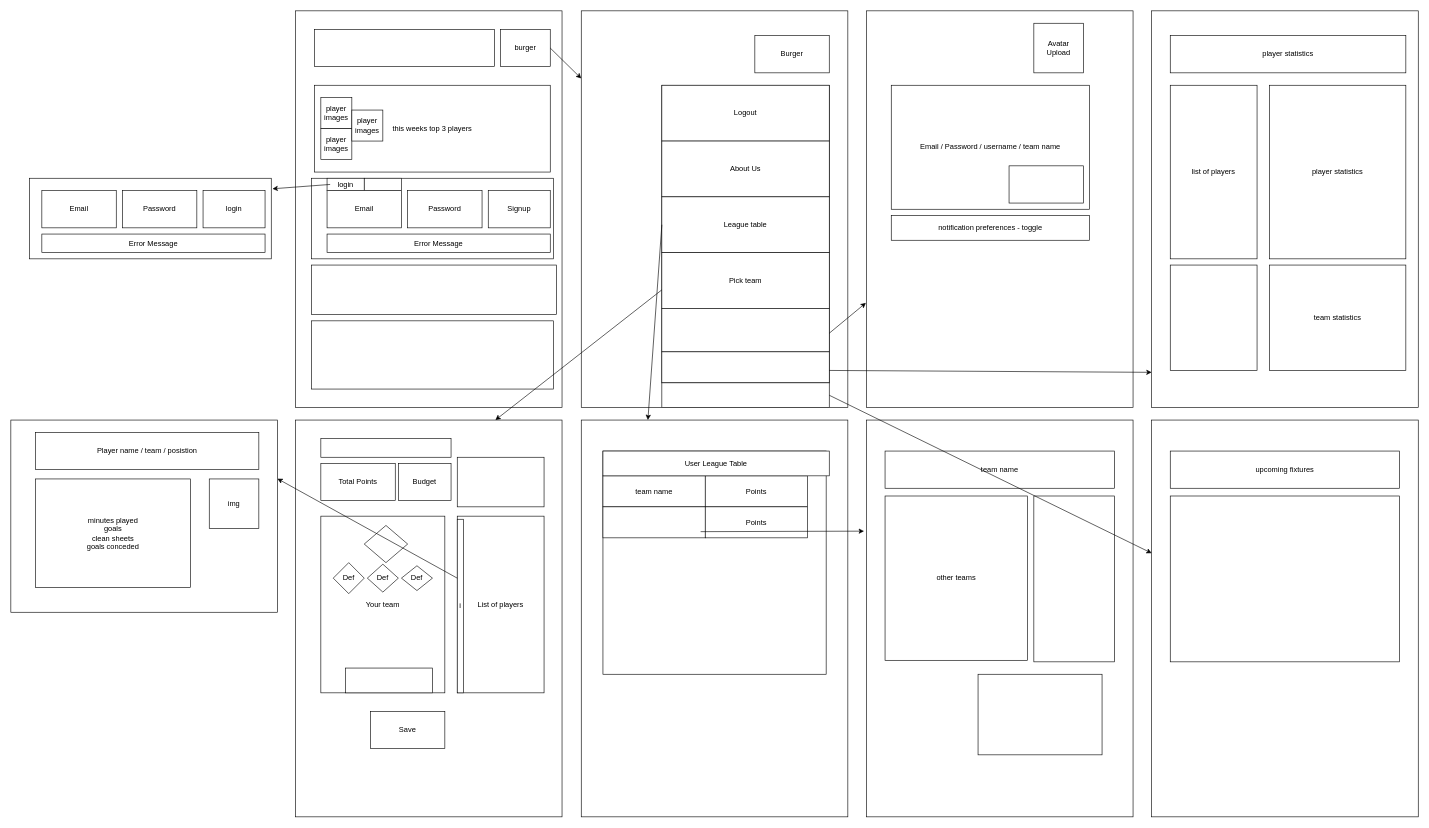
The diagram is 1429 pixels wide and 828 high, and some of its shapes have lost their labels. Here are the shapes that lost their labels. From the top down, the centre of each, then its label:
At pixel 404 48: "Logo".
At pixel 382 184: "sign-up".
At pixel 1045 184: "Save/Change".
At pixel 433 289: "this weeks top team - (user)".
At pixel 745 330: "Account".
At pixel 1213 317: "list of teams".
At pixel 432 354: "Footer".
At pixel 745 367: "Statistics".
At pixel 745 395: "Fixtures".
At pixel 385 447: "define team name".
At pixel 500 482: "Search by player/position/team".
At pixel 653 522: "Other user team name".
At pixel 386 544: "GK".
At pixel 1285 578: "list of upcoming fixtures".
At pixel 388 680: "error for invalid players".
At pixel 1039 714: "Graph".
